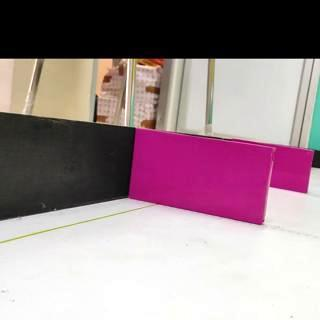xparking: (129, 128, 273, 225), (269, 146, 315, 194)
